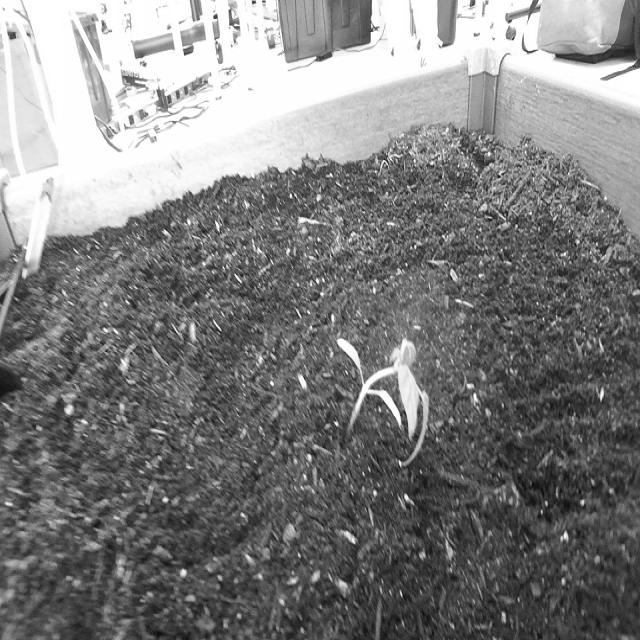Healthy: (328, 296, 438, 492)
